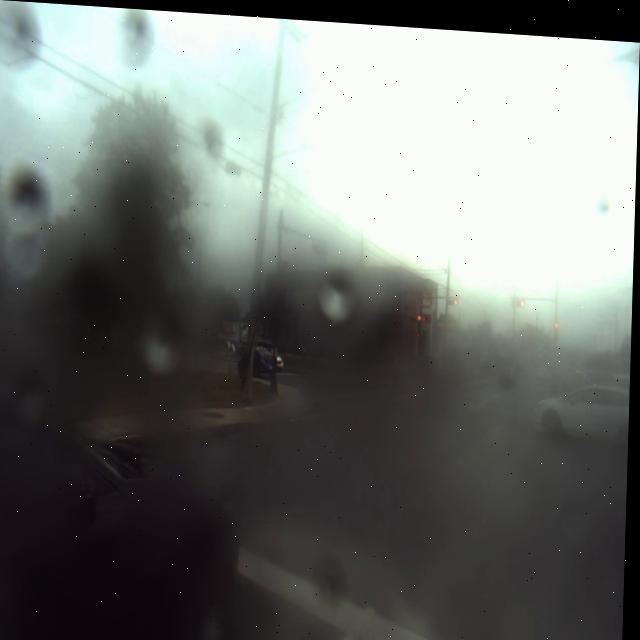car: (532, 374, 632, 437)
